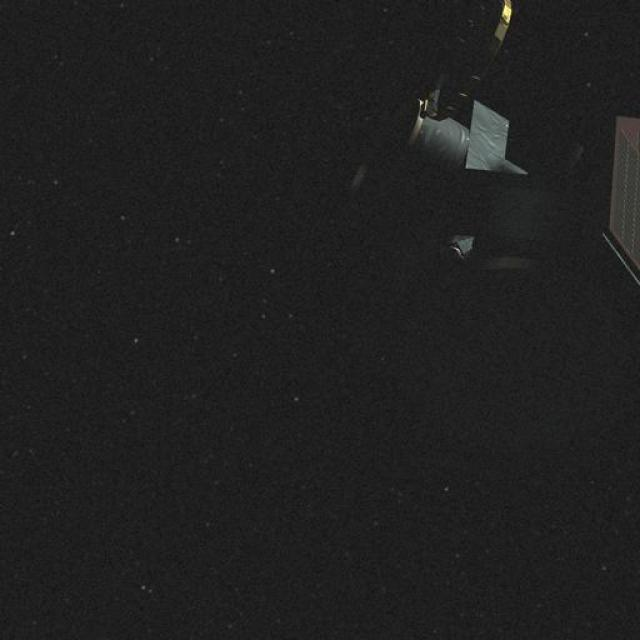cheops: (329, 4, 640, 280)
